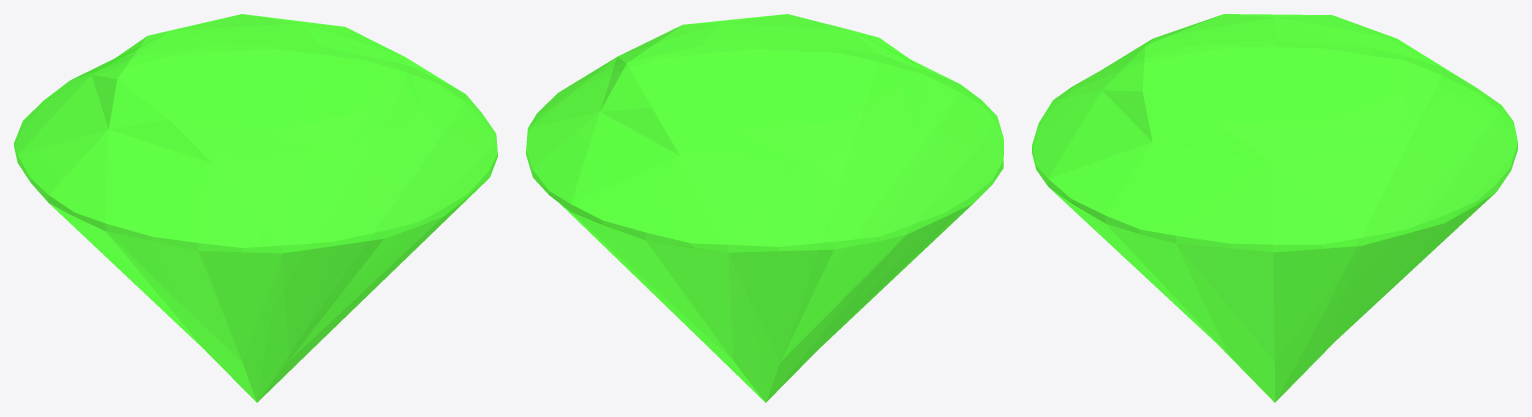
File: diaFloatAni.fbx
The picture shows the model from 3 angles, left to right: view 1: azimuth 30°, elevation 25°; view 2: azimuth 150°, elevation 25°; view 3: azimuth 270°, elevation 25°; orthographic projection.
Parts seen in each view (by area): view 1: diaFloatAni; view 2: diaFloatAni; view 3: diaFloatAni.
Boxes of the visible parts, x1,y1,x2,y2 form: diaFloatAni: (14, 14, 497, 402); diaFloatAni: (526, 14, 1003, 402); diaFloatAni: (1032, 14, 1517, 402).
Size of the model in its own units: 90.63 by 68.62 by 90.73.
